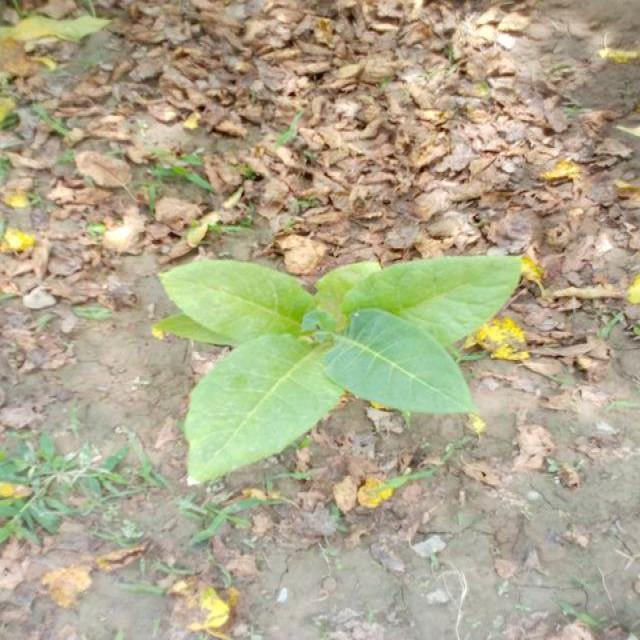crop: (163, 260, 512, 460)
